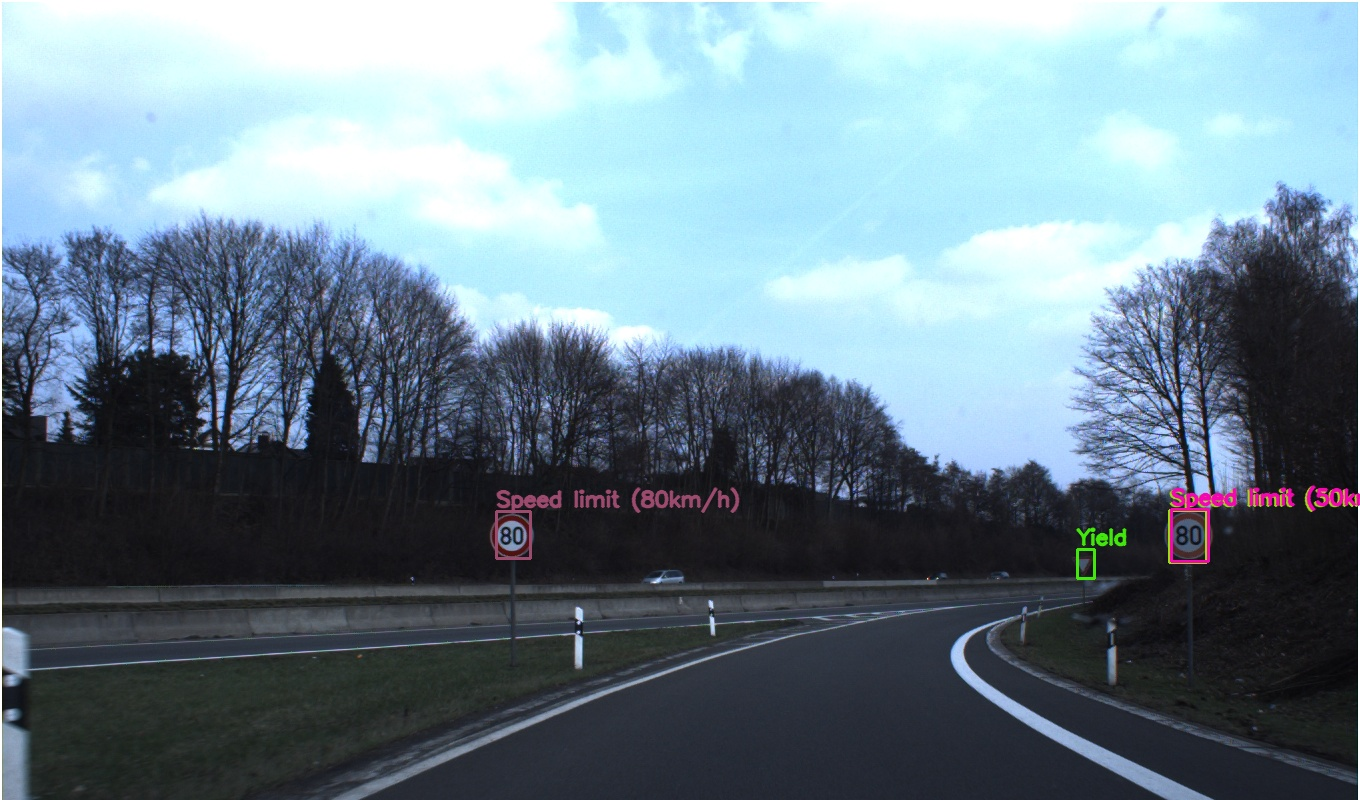Stop: (247, 472, 275, 501)
